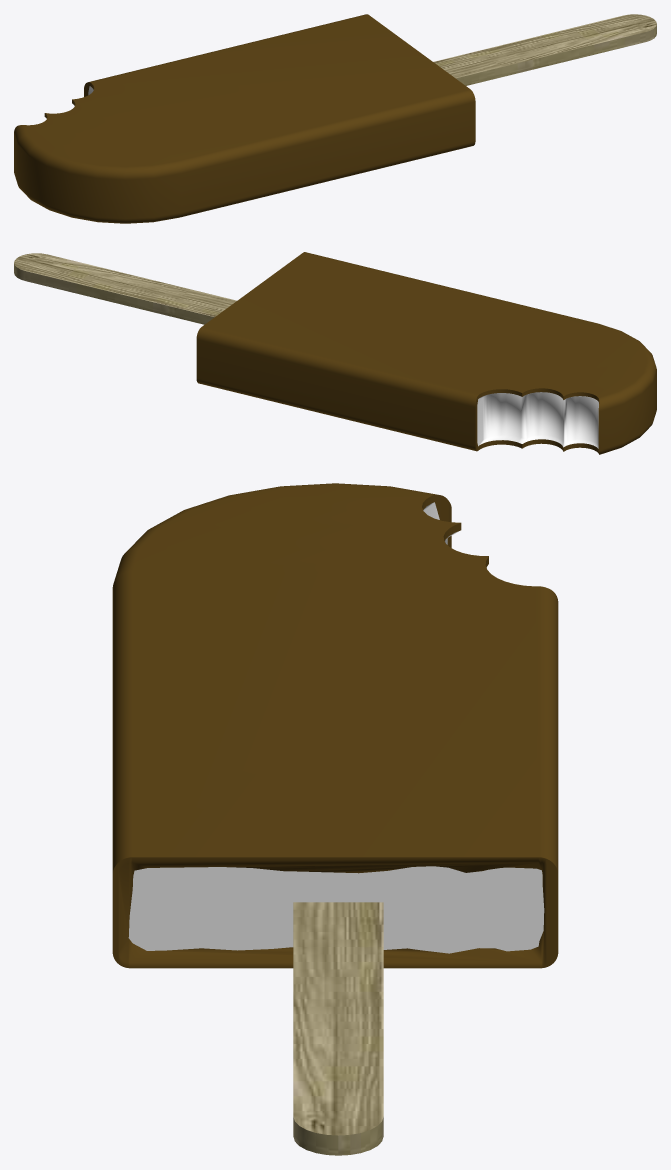
The model's file is icecream.dae.
The picture shows the model from 3 angles, top to bottom: view 1: azimuth 30°, elevation 25°; view 2: azimuth 150°, elevation 25°; view 3: azimuth 270°, elevation 25°; orthographic projection. The views are drawn at different scales.
Parts seen in each view (by area): view 1: Group4, Group5; view 2: Group4, Group5, Group2; view 3: Group4, Group3, Group5.
Part boxes in pixels (bbox=[...]): Group4: bbox=[14, 14, 475, 223]; Group5: bbox=[433, 14, 656, 85]; Group4: bbox=[196, 252, 656, 454]; Group5: bbox=[14, 253, 236, 324]; Group2: bbox=[477, 392, 598, 448]; Group4: bbox=[112, 483, 558, 968]; Group3: bbox=[128, 866, 544, 953]; Group5: bbox=[293, 902, 383, 1155].
Bounding box in the file's own units: 1179 × 364 × 100.
3 materials, 1 textured.
